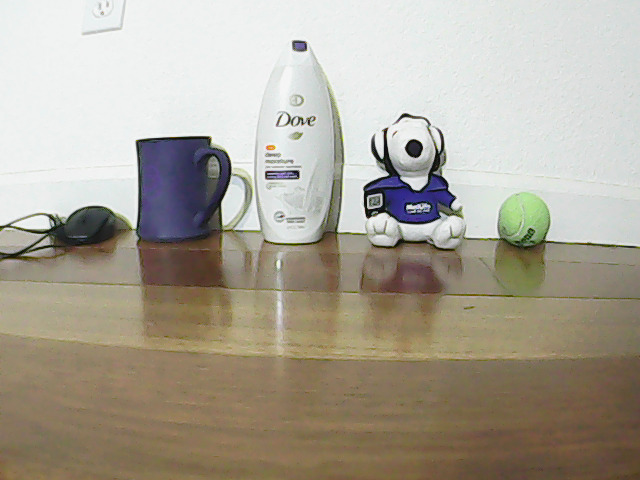ball: (492, 174, 558, 253)
mouse: (54, 187, 118, 246)
mug: (130, 122, 227, 250)
snoopy: (373, 115, 468, 248)
soap: (253, 24, 348, 240)
